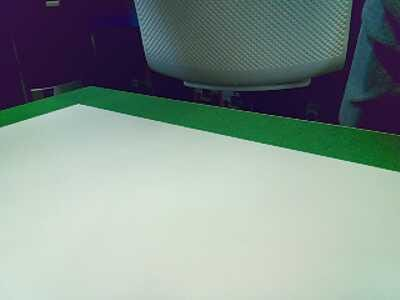linea_cerca: (0, 84, 400, 173)
